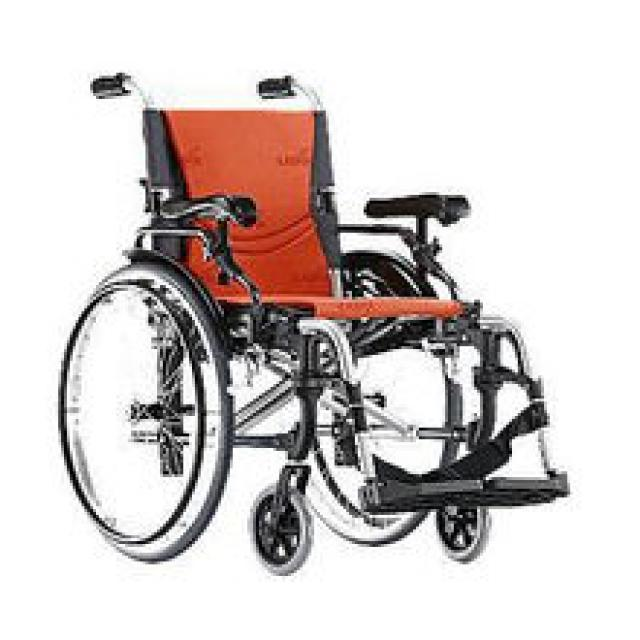wheelchair: (67, 24, 582, 626)
